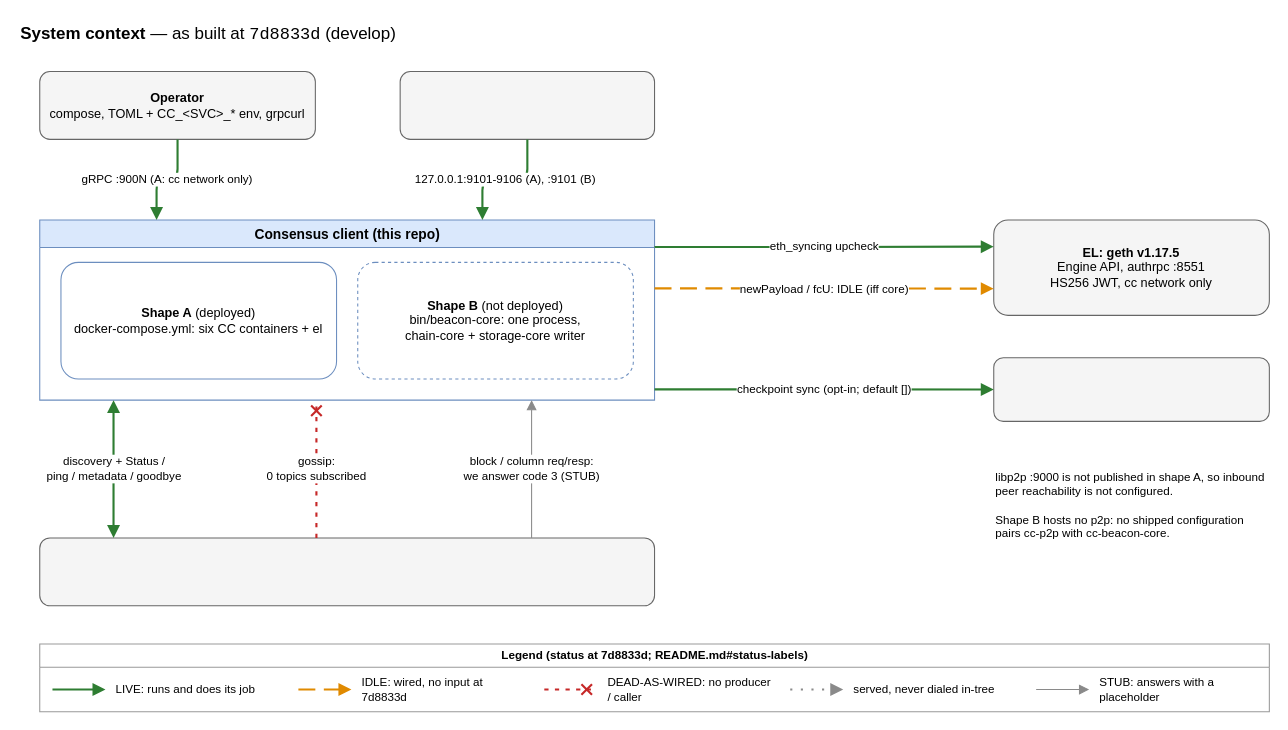
Image size: 1288x730. Some labels were removed from this diagram. Each missing label, with the centre of its shape:
Checkpoint providers HTTPS (loopback HTTP allowed): (x=1131, y=389)
CL peers on Hoodi libp2p TCP + discv5 UDP :9000 (cc-p2p, shape A only): (x=347, y=571)
Metrics scraper GET /metrics (OpenMetrics, no auth): (x=527, y=104)
